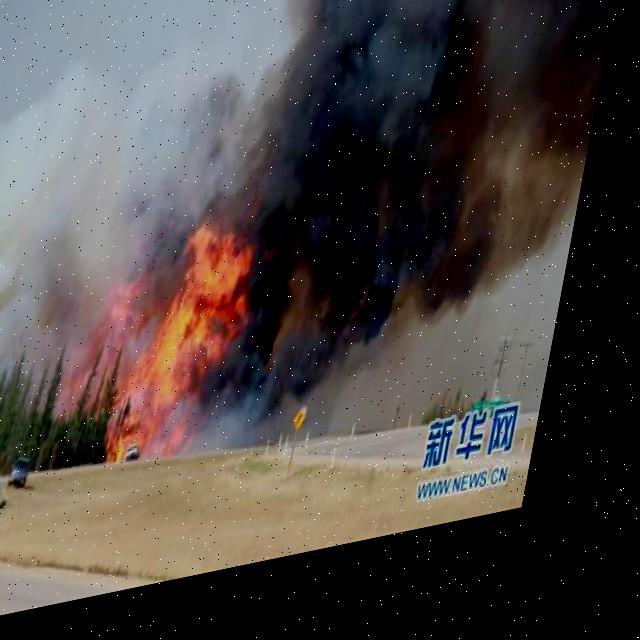Fire: (76, 227, 277, 487)
